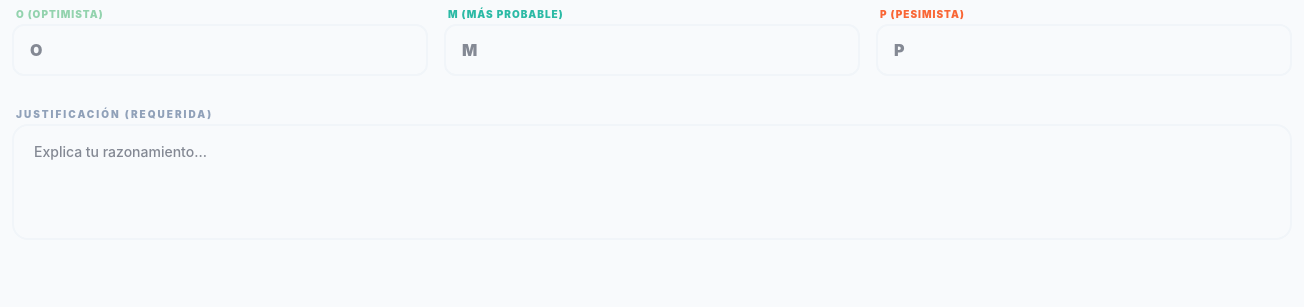
Scenario: ThreePointInput › calculates E = (O + 4M + P) / 6 correctly — O=2, M=5, P=14 → E=6
Type "2" into the number field with placeholder "O" at (220,50), box [12,24,428,76]
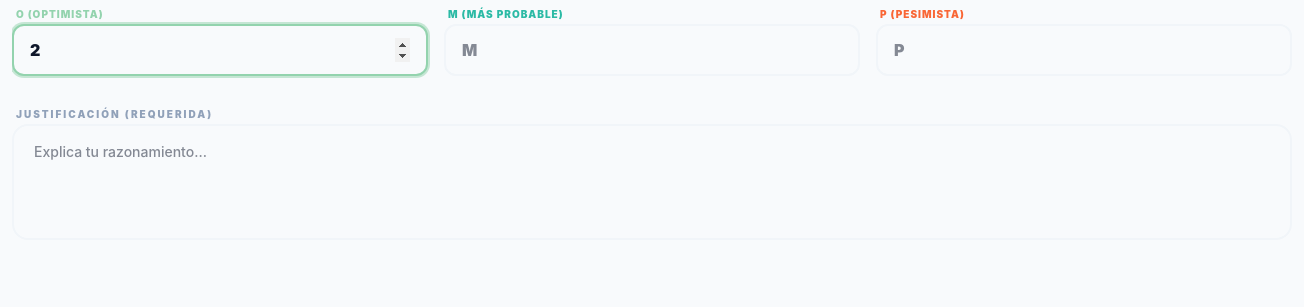
Type "5" into the number field with placeholder "M" at (652,50), box [444,24,860,76]
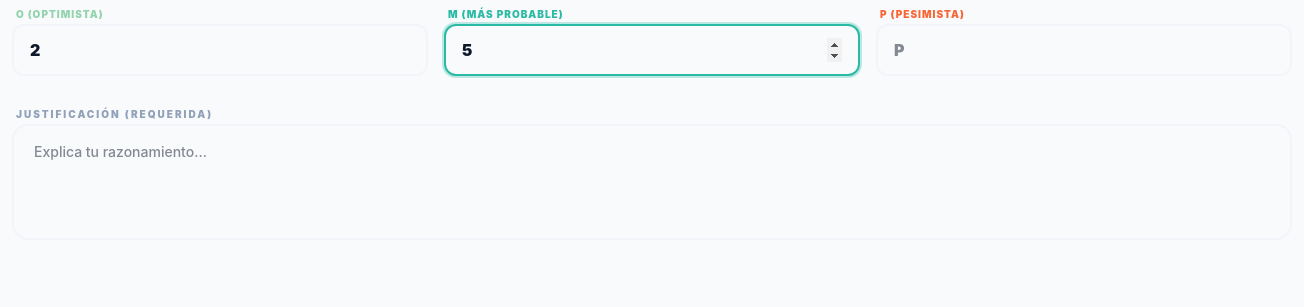
Type "14" into the number field with placeholder "P" at (1084,50), box [876,24,1292,76]
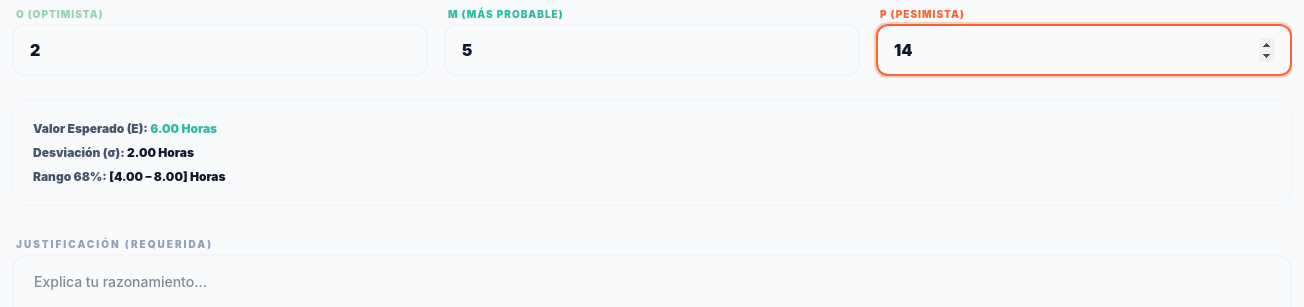
Check: the text "6.00 Horas" is shown, box [150,121,217,136]
